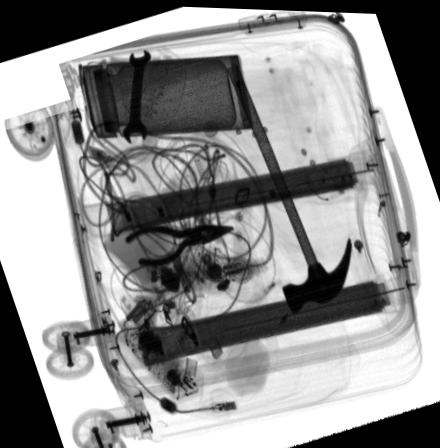Hammer: (226, 61, 353, 313)
Pliers: (125, 221, 235, 266)
Wrench: (122, 46, 152, 142)
